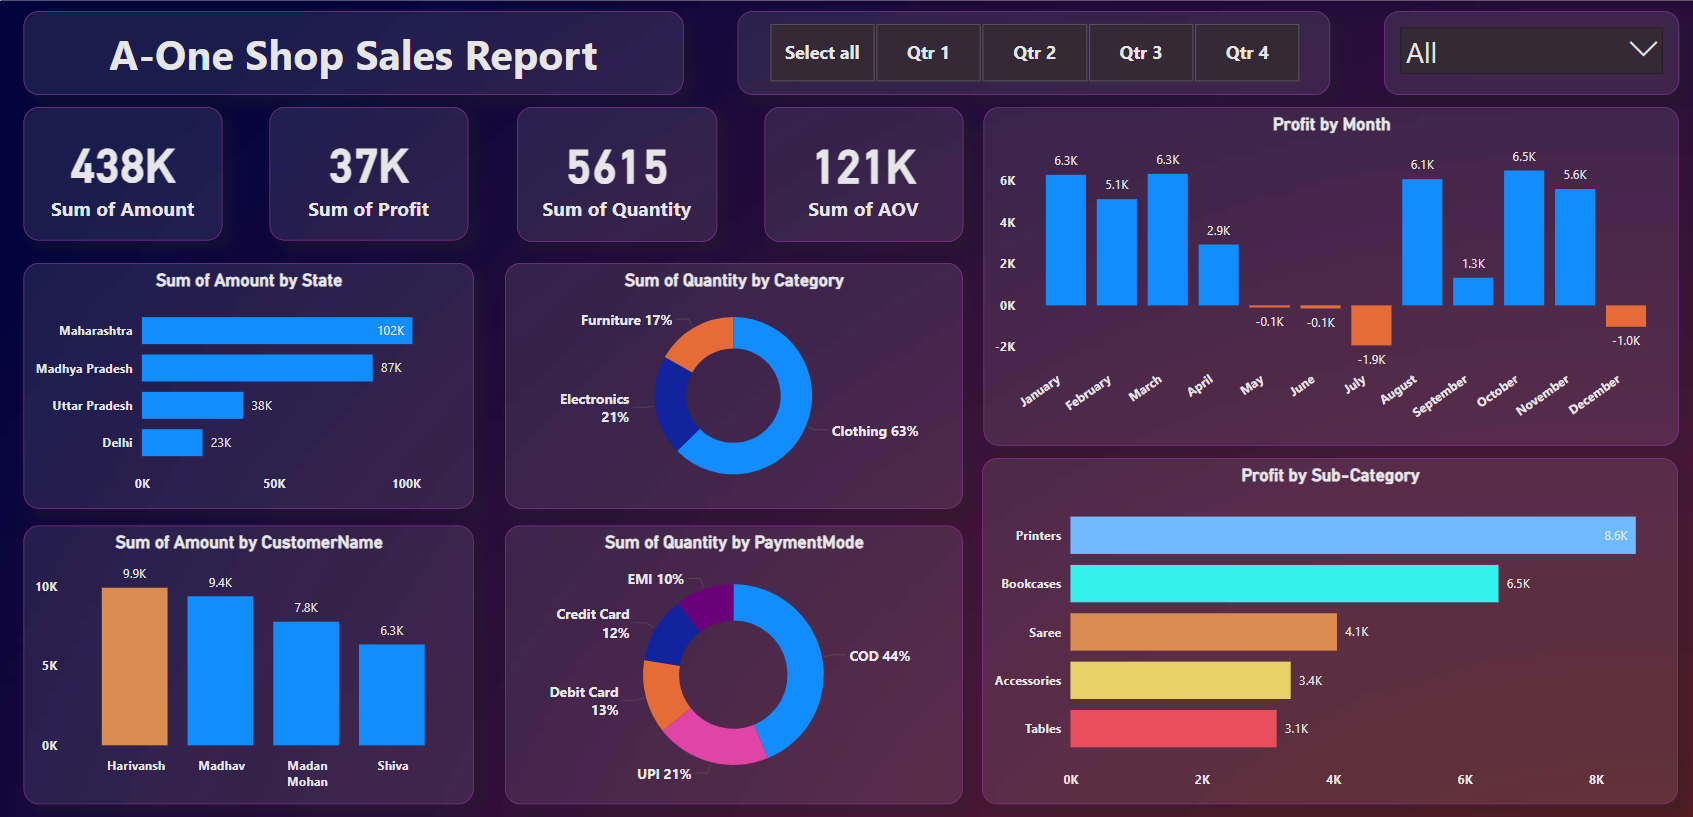

Layout of this report page (visuals, bound fields, positions):
{"tool":"powerbi","page":{"name":"Page 1","canvas":[1650,800],"ordinal":0},"visuals":[{"type":"columnChart","title":"Profit by Month","fields":{"Y":["Sum(Details.Profit)"],"Category":["Orders.Order Date.Variation.Date Hierarchy.Month"]},"box":[953.8,104.4,673.4,327.7],"z":0},{"type":"actionButton","box":[24.9,11.6,639.5,81.4],"z":1},{"type":"barChart","title":"Profit by Sub-Category","fields":{"Category":["Details.Sub-Category"],"Y":["Sum(Details.Profit)"]},"box":[953,444.6,674.1,335.6],"z":2},{"type":"donutChart","fields":{"Category":["Details.PaymentMode"],"Y":["Sum(Details.Quantity)"]},"box":[491.1,509.9,443.1,270.2],"z":3},{"type":"donutChart","fields":{"Category":["Details.Category"],"Y":["Sum(Details.Quantity)"]},"box":[491.1,255.7,443.1,238.3],"z":4},{"type":"barChart","fields":{"Category":["Orders.State"],"Y":["Sum(Details.Amount)"]},"box":[24.7,255.7,435.8,238.3],"z":5},{"type":"columnChart","fields":{"Category":["Orders.CustomerName"],"Y":["Sum(Details.Amount)"]},"box":[24.7,509.9,435.8,270.2],"z":6},{"type":"slicer","fields":{"Values":["Orders.Order Date.Variation.Date Hierarchy.Quarter"]},"box":[716.2,11.6,573.9,81.4],"z":7},{"type":"slicer","fields":{"Values":["Orders.State"]},"box":[1342.2,11.6,285.7,81.4],"z":8},{"type":"card","fields":{"Values":["Sum(Details.Amount)"]},"box":[24.9,104.4,192.7,129.6],"z":9},{"type":"card","fields":{"Values":["Sum(Details.Profit)"]},"box":[263.5,104.4,192.7,129.6],"z":10},{"type":"card","fields":{"Values":["Sum(Details.Quantity)"]},"box":[502,104.4,194,130.4],"z":11},{"type":"card","fields":{"Values":["Sum(Details.AOV)"]},"box":[741.9,104.4,192.4,130.4],"z":12}]}

Visuals, with their boxes in screenshot pixels (x1, y1, x2, y2), scaled from the page's 1650x800 canvas onto the 1693x817 screenshot:
"Profit by Month" columnChart: x1=979, y1=107, x2=1670, y2=441
actionButton: x1=26, y1=12, x2=682, y2=95
"Profit by Sub-Category" barChart: x1=978, y1=454, x2=1670, y2=797
donutChart - Details.PaymentMode x Sum(Details.Quantity): x1=504, y1=521, x2=959, y2=797
donutChart - Details.Category x Sum(Details.Quantity): x1=504, y1=261, x2=959, y2=504
barChart - Orders.State x Sum(Details.Amount): x1=25, y1=261, x2=473, y2=504
columnChart - Orders.CustomerName x Sum(Details.Amount): x1=25, y1=521, x2=473, y2=797
slicer - Orders.Order Date.Variation.Date Hierarchy.Quarter: x1=735, y1=12, x2=1324, y2=95
slicer - Orders.State: x1=1377, y1=12, x2=1670, y2=95
card - Sum(Details.Amount): x1=26, y1=107, x2=223, y2=239
card - Sum(Details.Profit): x1=270, y1=107, x2=468, y2=239
card - Sum(Details.Quantity): x1=515, y1=107, x2=714, y2=240
card - Sum(Details.AOV): x1=761, y1=107, x2=959, y2=240
